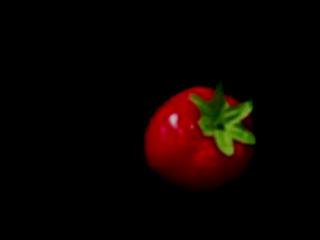Tomato: (142, 79, 259, 199)
